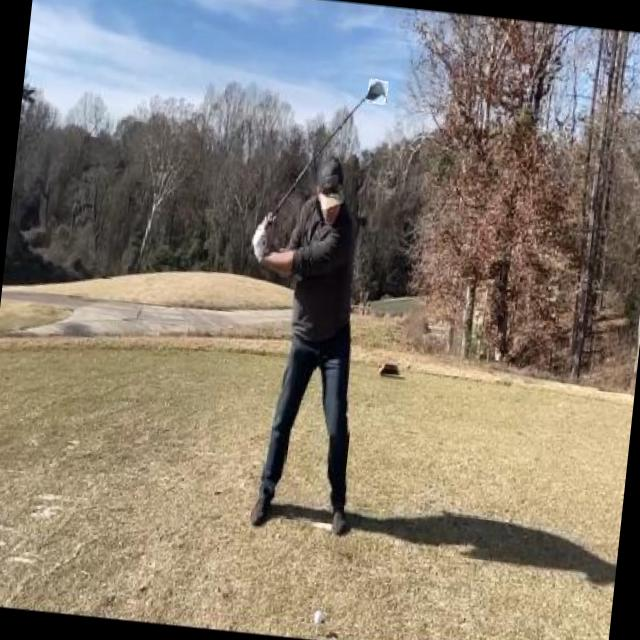club head: (366, 78, 388, 105)
